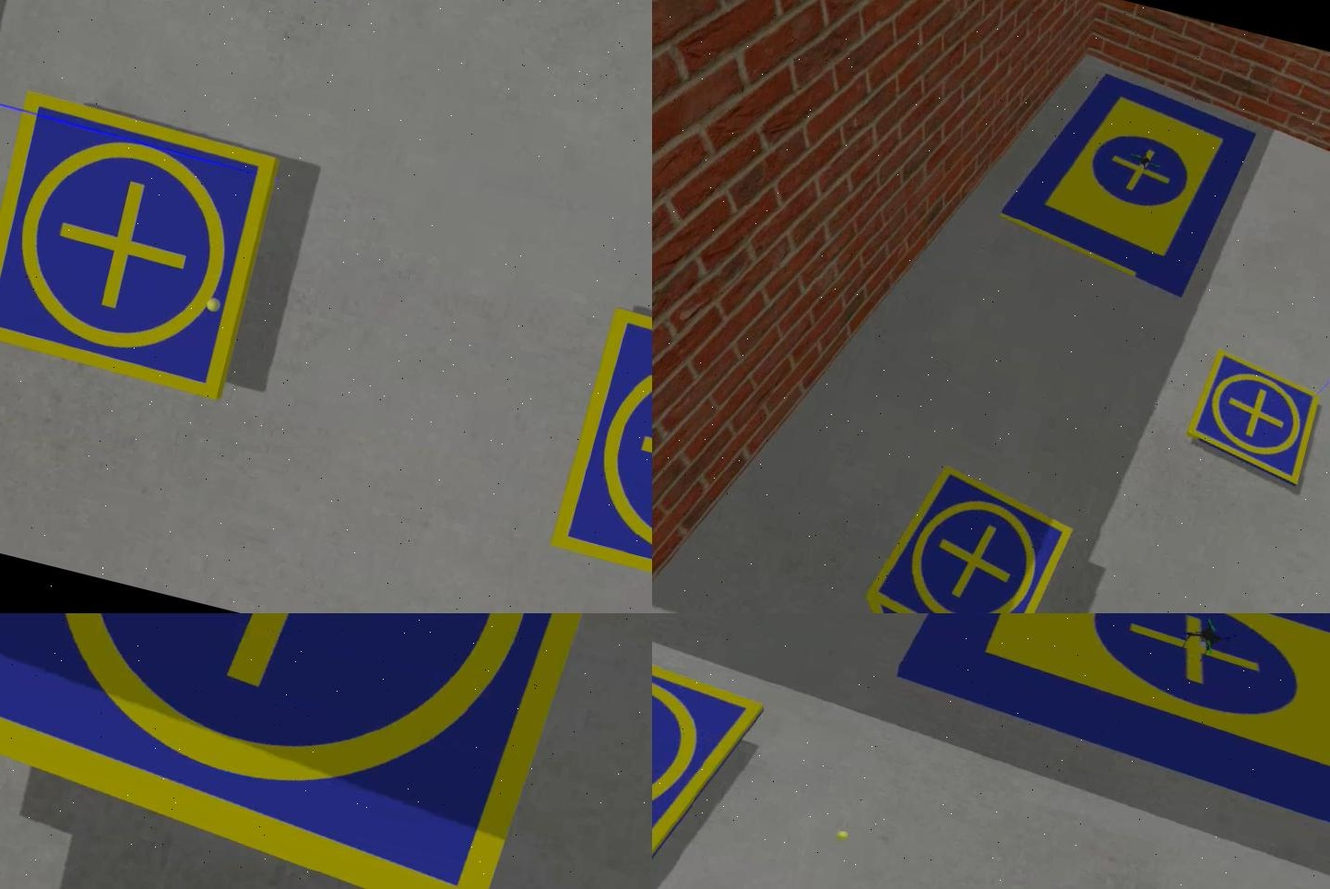large_base: (889, 613, 1328, 849), (986, 58, 1261, 306)
small_base: (0, 613, 651, 889), (0, 91, 281, 400), (853, 456, 1078, 613), (651, 613, 769, 889), (548, 302, 651, 613), (1180, 345, 1328, 491)
